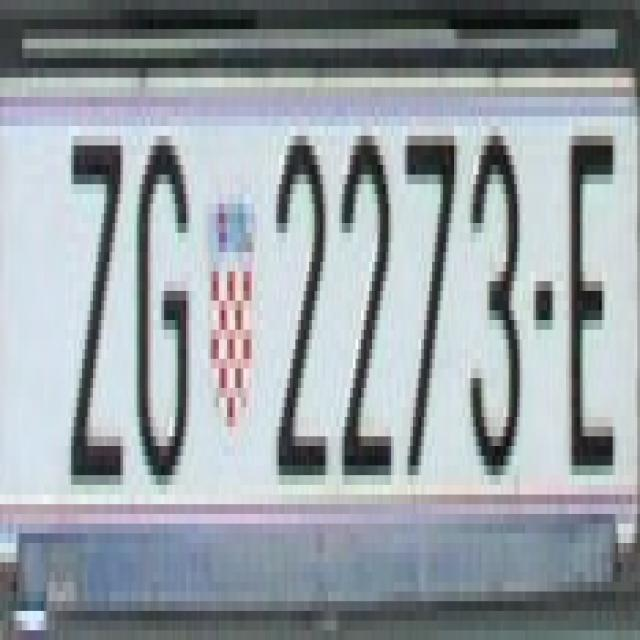2: (336, 126, 396, 485), (268, 126, 328, 485)
3: (468, 126, 517, 485)
7: (399, 126, 452, 485)
E: (566, 107, 616, 466)
G: (134, 126, 191, 485)
Z: (66, 107, 126, 466)
